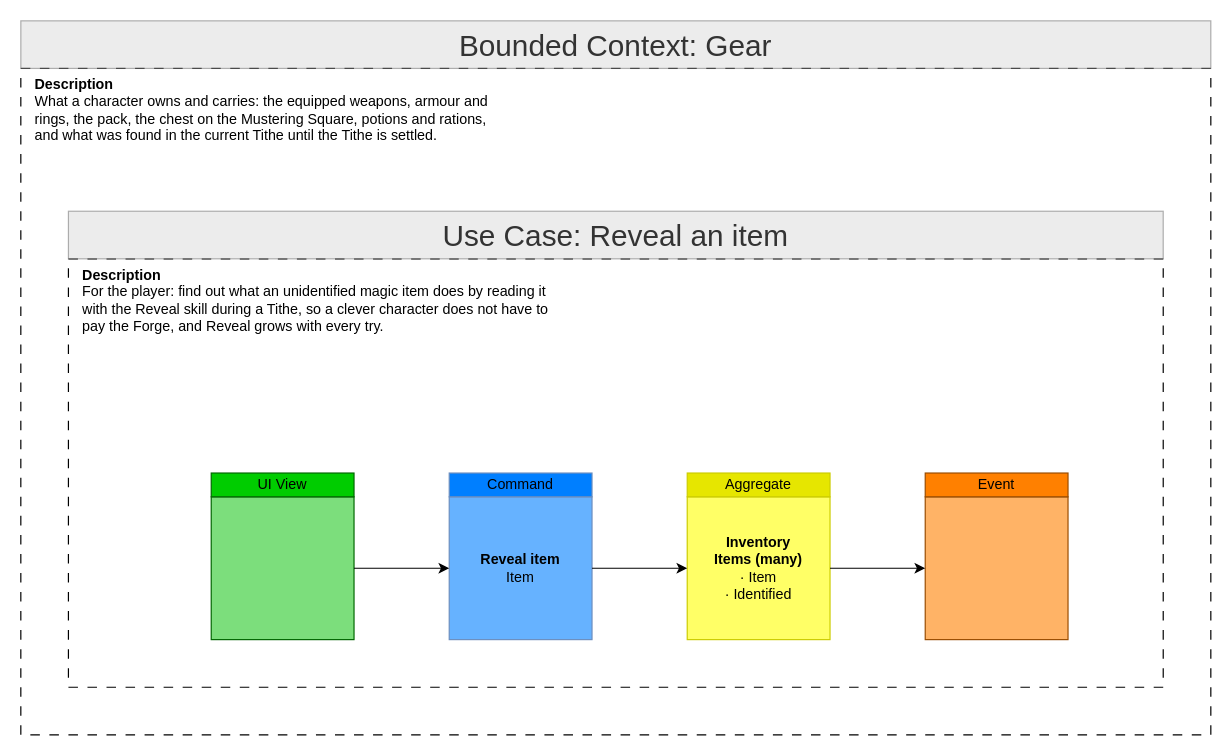
This 1232x756 diagram has some shape labels left out. Here are the shapes that lost their labels. From the top down, the centre of each, then its label:
At point (282, 568): "Inventory Player".
At point (996, 568): "Item revealed".
